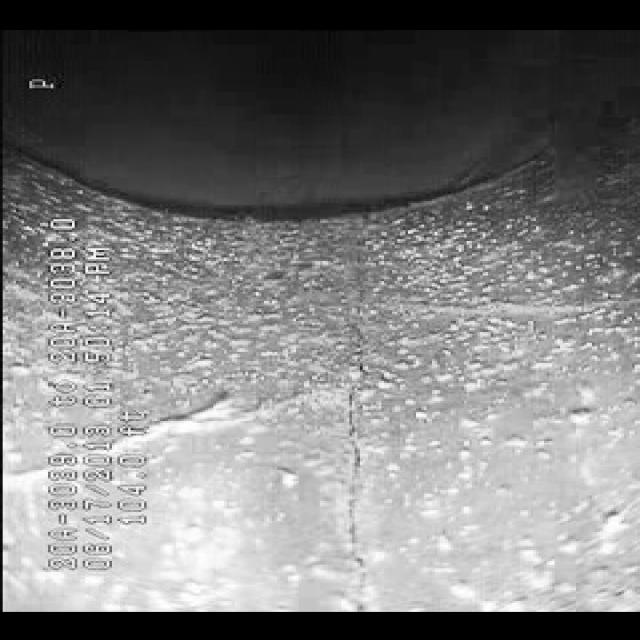Crack: (307, 256, 405, 598)
